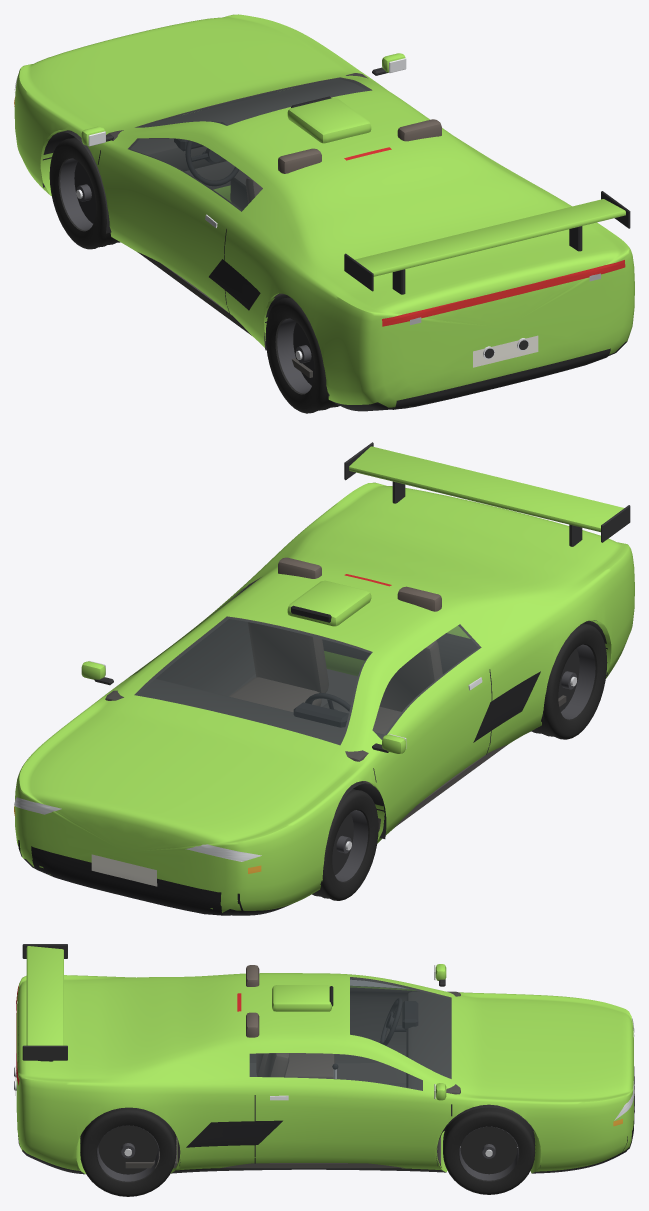
Rendered from nyx_strata.glb.
The picture shows the model from 3 angles, top to bottom: view 1: azimuth 30°, elevation 25°; view 2: azimuth 150°, elevation 25°; view 3: azimuth 270°, elevation 25°; orthographic projection. The views are drawn at different scales.
Parts seen in each view (by area): view 1: Body, Interior, Glass, Wheel_RL, Wheel_FL, Lights_Tail, SteeringWheel; view 2: Body, Interior, Glass, Wheel_RL, Wheel_FL, Lights_Head; view 3: Body, Interior, Glass, Wheel_RR, Wheel_FR, SteeringWheel.
Part boxes in pixels (left/top/right/bottom): Body: left=14, top=14, right=634, bottom=411; Interior: left=107, top=73, right=441, bottom=377; Glass: left=128, top=78, right=371, bottom=211; Wheel_RL: left=265, top=297, right=339, bottom=413; Wheel_FL: left=49, top=137, right=120, bottom=249; Lights_Tail: left=382, top=260, right=625, bottom=326; SteeringWheel: left=185, top=121, right=238, bottom=186; Body: left=14, top=442, right=634, bottom=915; Interior: left=105, top=557, right=597, bottom=831; Glass: left=134, top=581, right=480, bottom=744; Wheel_RL: left=531, top=623, right=607, bottom=739; Wheel_FL: left=312, top=788, right=378, bottom=900; Lights_Head: left=14, top=797, right=261, bottom=861; Body: left=14, top=944, right=634, bottom=1174; Interior: left=125, top=965, right=460, bottom=1168; Glass: left=249, top=977, right=451, bottom=1090; Wheel_RR: left=80, top=1107, right=176, bottom=1196; Wheel_FR: left=443, top=1107, right=535, bottom=1194; SteeringWheel: left=380, top=998, right=402, bottom=1045.
Size of the model in its own units: 2.26 by 1.23 by 4.65.
